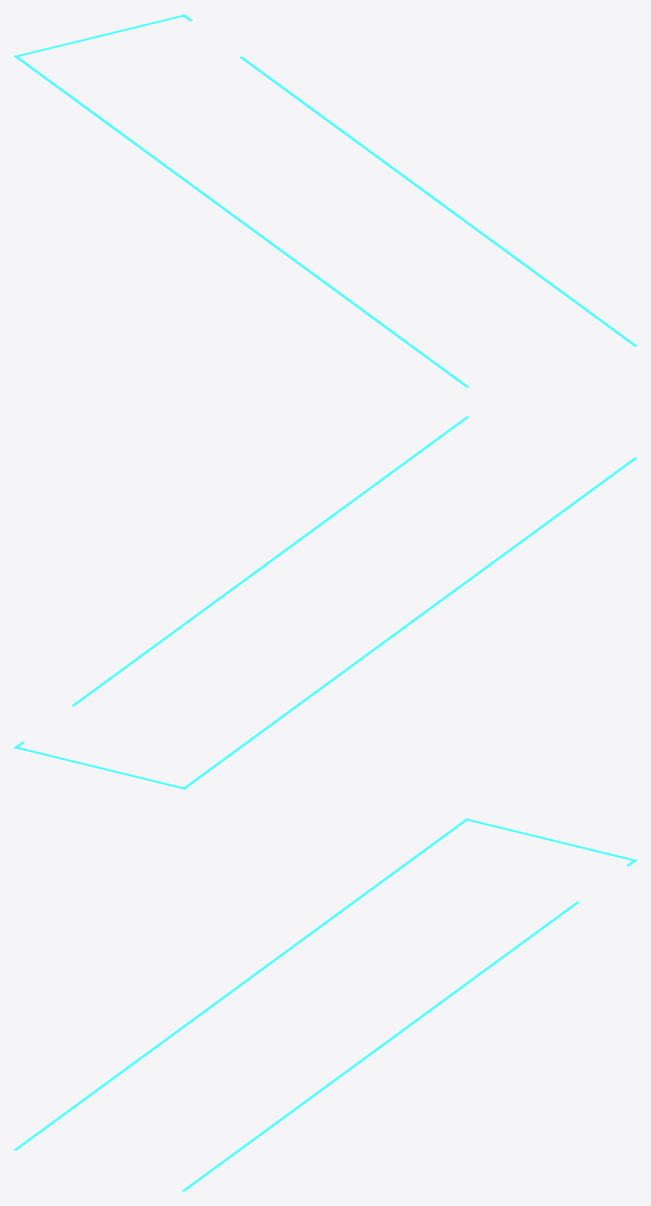
Rendered from v02-04-04-cyan.glb.
The picture shows the model from 3 angles, top to bottom: view 1: azimuth 30°, elevation 25°; view 2: azimuth 150°, elevation 25°; view 3: azimuth 330°, elevation 25°; orthographic projection.
Parts seen in each view (by area): view 1: v02-04-04-cyan; view 2: v02-04-04-cyan; view 3: v02-04-04-cyan.
Boxes of the visible parts, bbox=[...] form: v02-04-04-cyan: bbox=[14, 14, 636, 387]; v02-04-04-cyan: bbox=[14, 416, 636, 789]; v02-04-04-cyan: bbox=[14, 818, 636, 1191].
Size of the model in its own units: 6 by 0.025 by 27.5.
